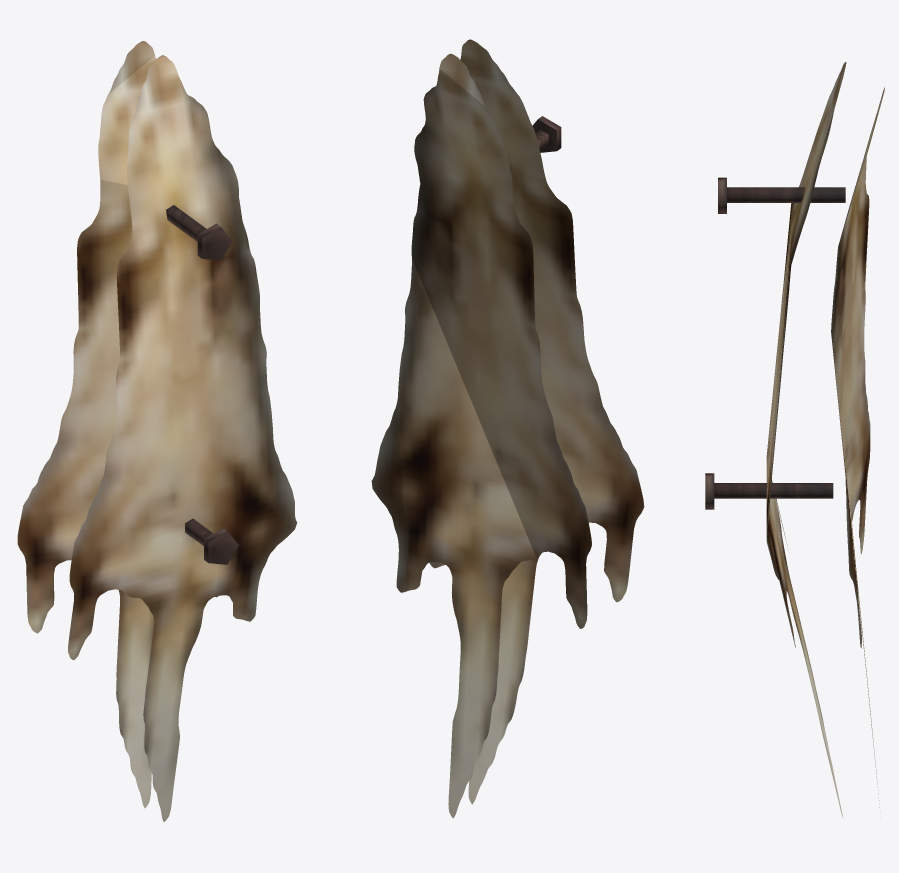
File: possum_2.FBX
3 views of the same model, side by side, from view 1: azimuth 30°, elevation 25°; view 2: azimuth 150°, elevation 25°; view 3: azimuth 270°, elevation 25° (orthographic).
Visible parts, largest first — view 1: possum_2; view 2: possum_2; view 3: possum_2.
Boxes of the visible parts, box(x1,y1,x2,y2) form: possum_2: box(17, 41, 296, 821); possum_2: box(371, 39, 644, 818); possum_2: box(705, 62, 884, 818).
Bounding box in the file's own units: 16.68 × 44.48 × 9.08.
